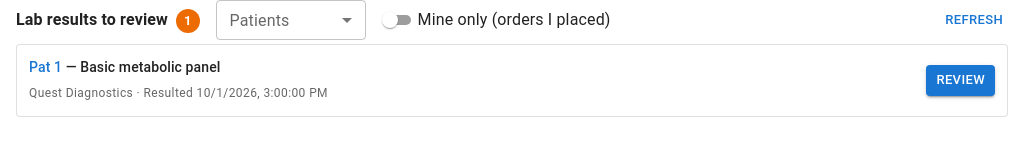
Test case: 'Mine only' asks the server for just my orders
Expected: the link "Pat 1" is shown, [29,59,62,75]
Click the switch labelled "Mine only (orders I placed)" at (494, 20), box [378,8,611,32]
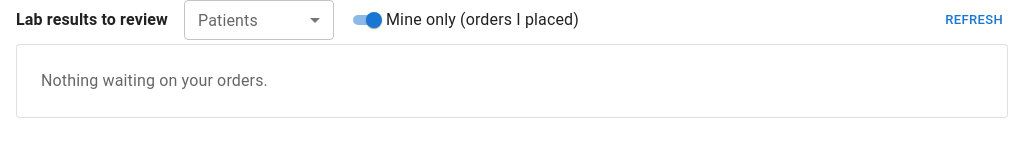
Now the text "Nothing waiting on your orders." is shown, box [41,71,268,90]
